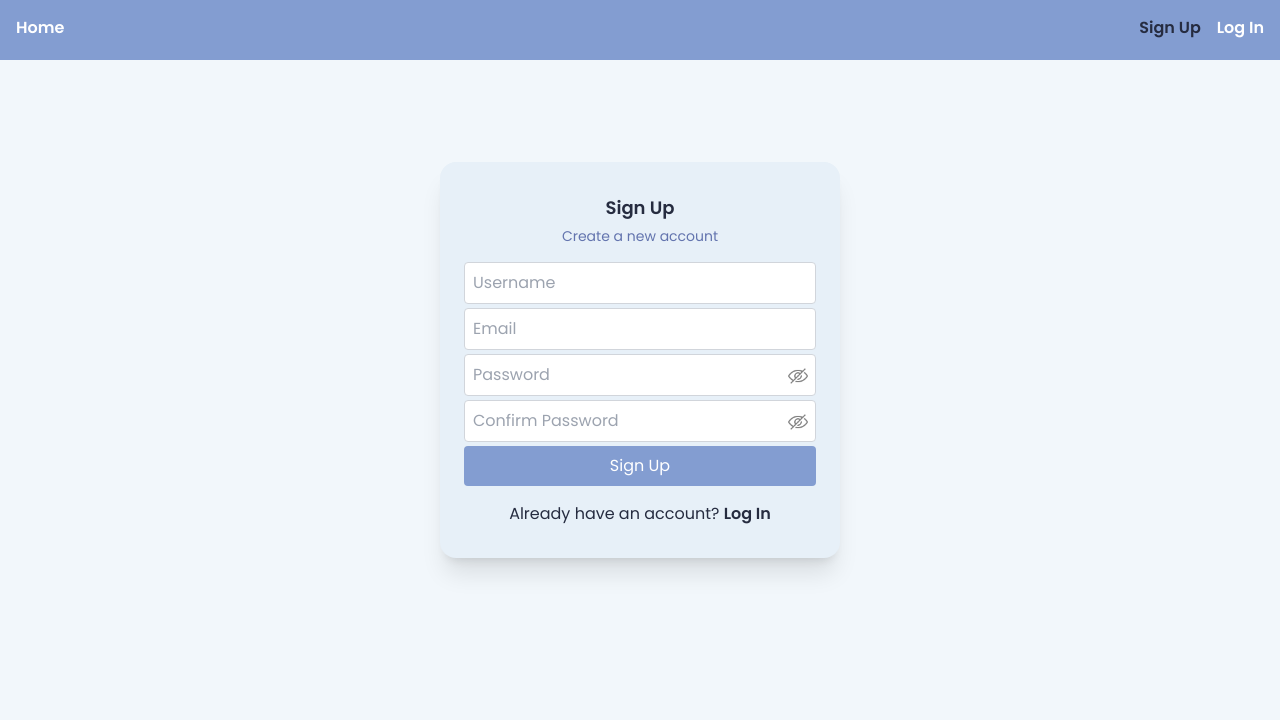
Test: Sign Up Page › shows an error if passwords do not match
Type "testuser" into the field named "username" at point(640, 283), box [464,262,816,304]
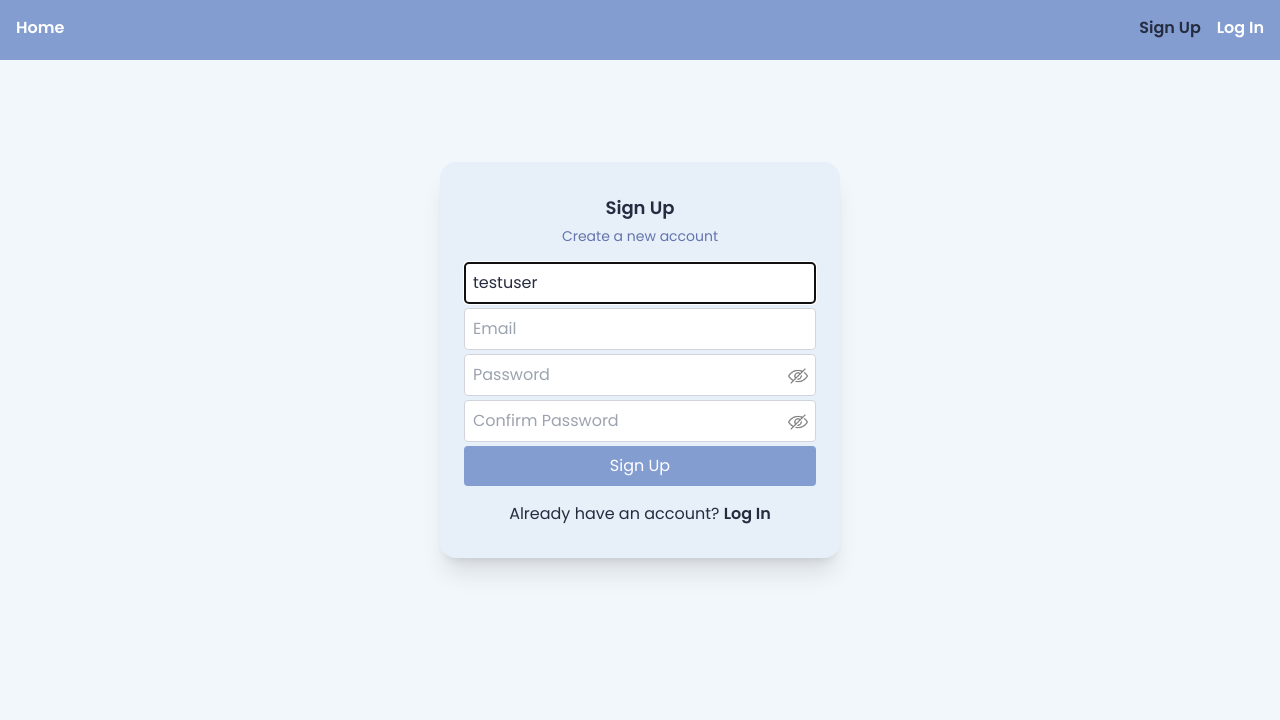
Type "test@example.com" into the field named "email" at point(640, 329), box [464,308,816,350]
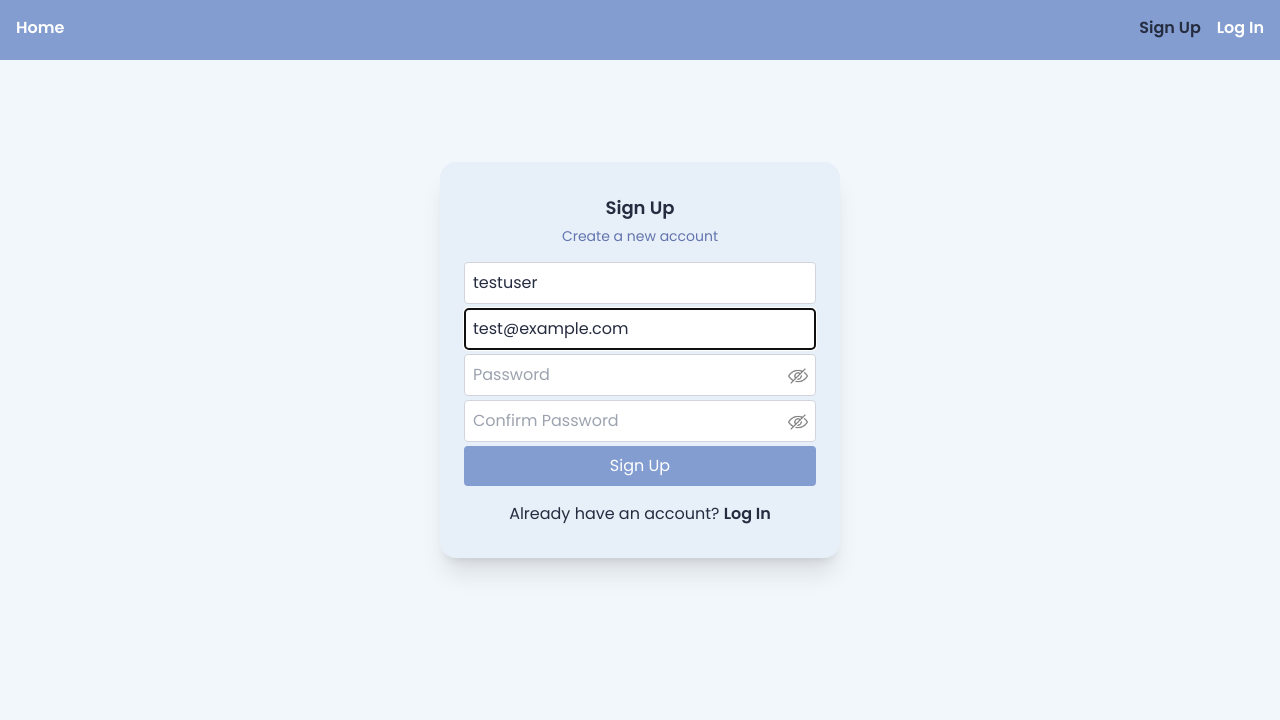
Type "password123" into the password field named "password" at point(640, 375), box [464,354,816,396]
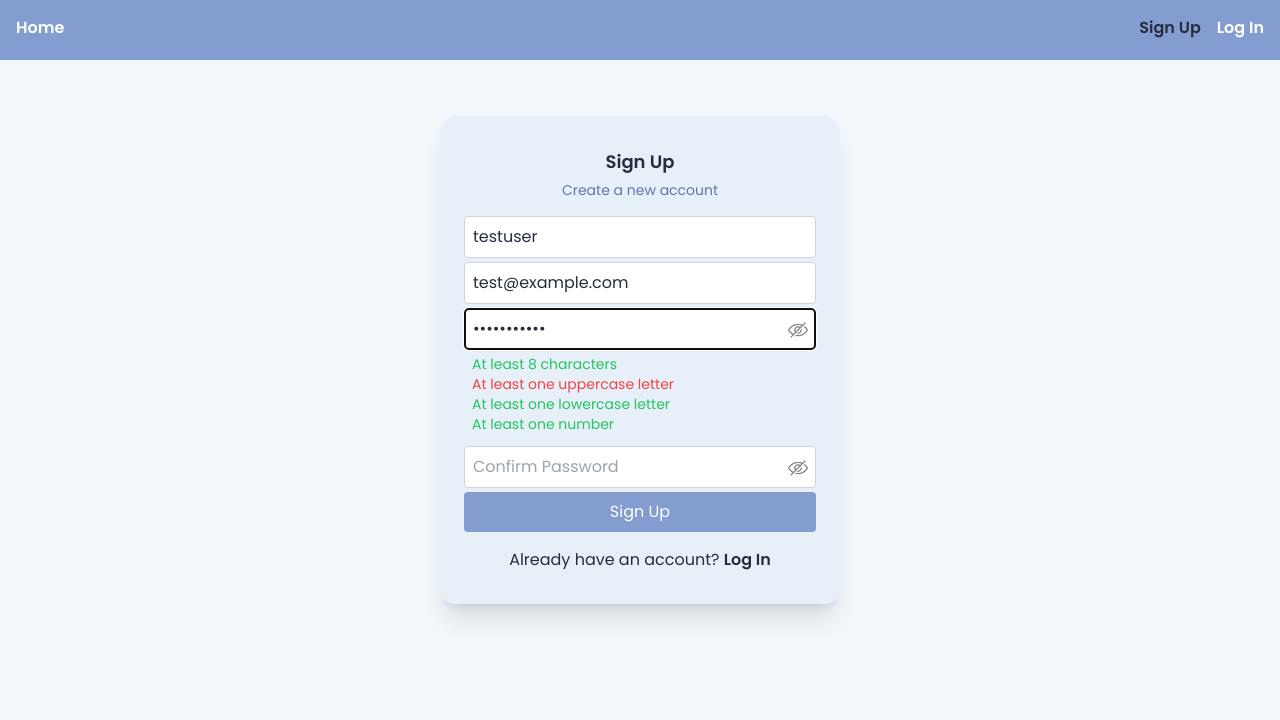
Type "password456" into the password field named "confirmPassword" at point(640, 467), box [464,446,816,488]
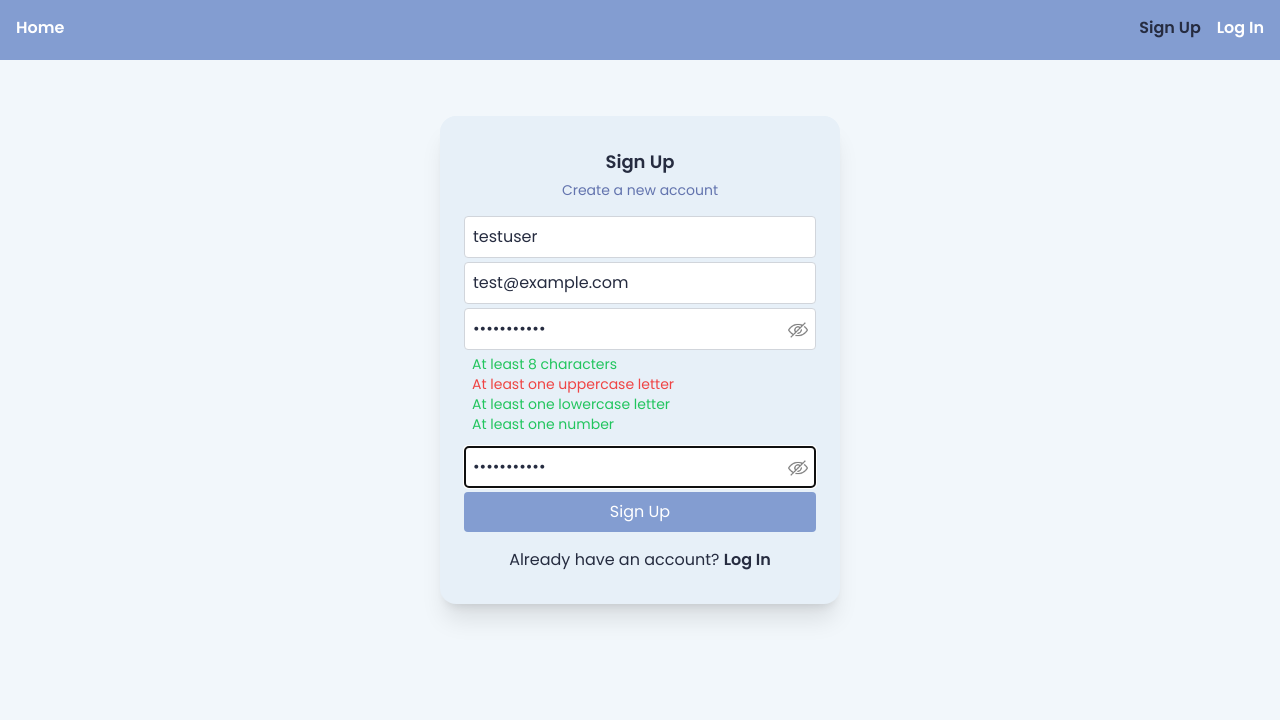
Click the submit button at point(640, 512), box [464,492,816,532]
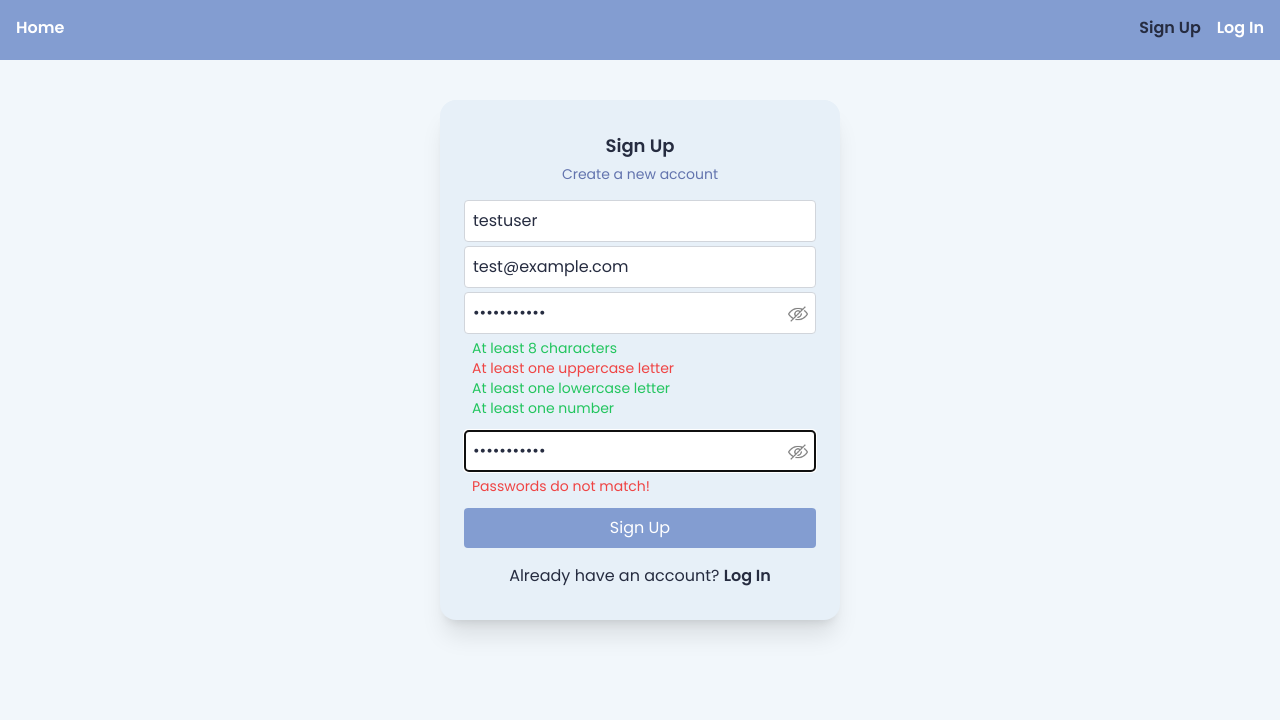
Expected: the text "Passwords do not match!" is shown, [472,476,650,496]
